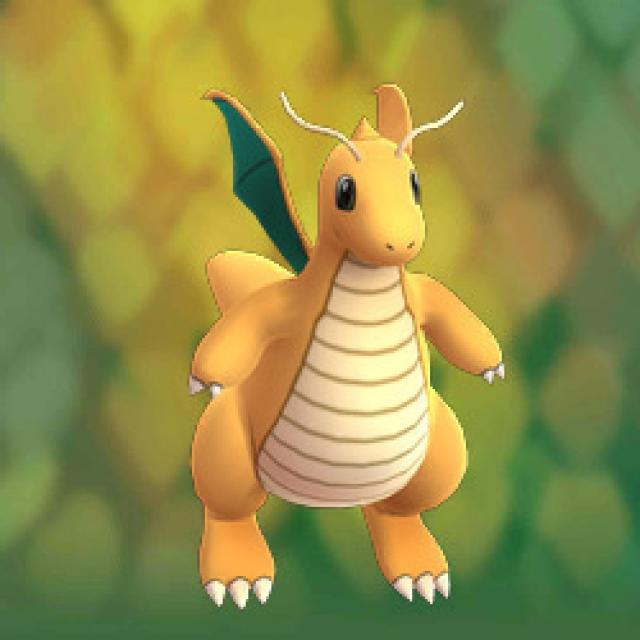Dragonite: (164, 78, 518, 614)
